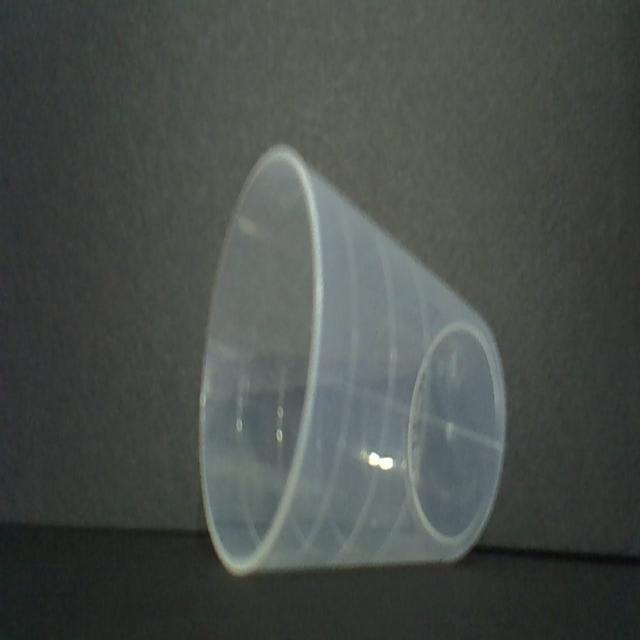cup: (195, 143, 508, 573)
